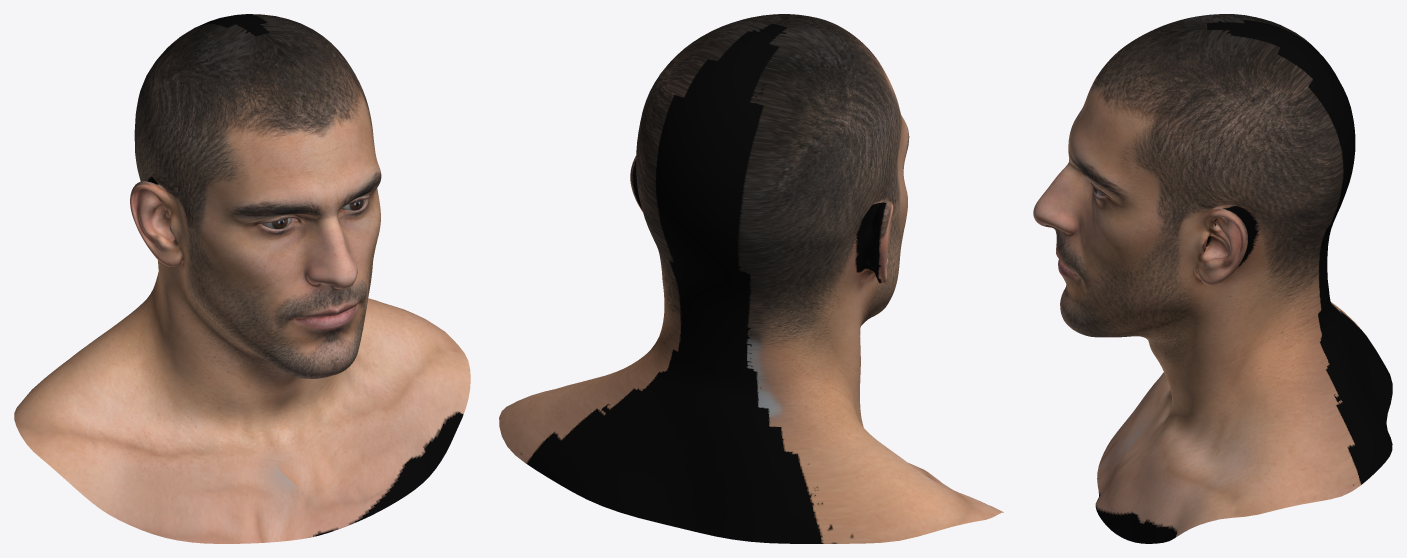
Rendered from 01a0a628-a661-7ec2-89ec-735ecb733b5f.glb.
3 views of the same model, side by side, from view 1: azimuth 30°, elevation 25°; view 2: azimuth 150°, elevation 25°; view 3: azimuth 270°, elevation 25° (orthographic). The views are drawn at different scales.
Parts seen in each view (by area): view 1: mesh; view 2: mesh; view 3: mesh.
Boxes of the visible parts, <box> form: mesh: <box>14,14,470,543</box>; mesh: <box>499,14,1003,543</box>; mesh: <box>1033,14,1392,543</box>.
Size of the model in its own units: 3.32 by 3.45 by 2.39.
4 materials, 4 textured.
